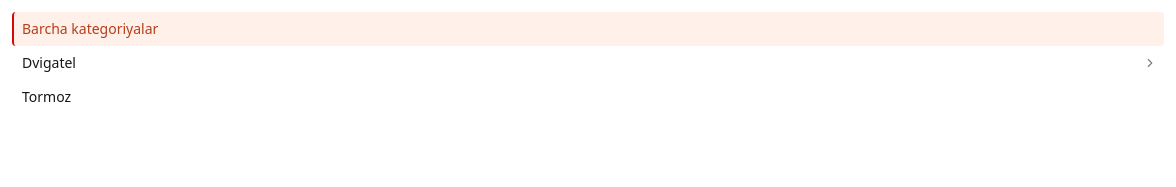
Test case: CategoryTreeFilter › opens a branch without selecting it
Step 1. Click the button named "Dvigatel ichidagi turkumlarni ochish yoki yopish" → point(1150, 63), box [1136,49,1164,77]
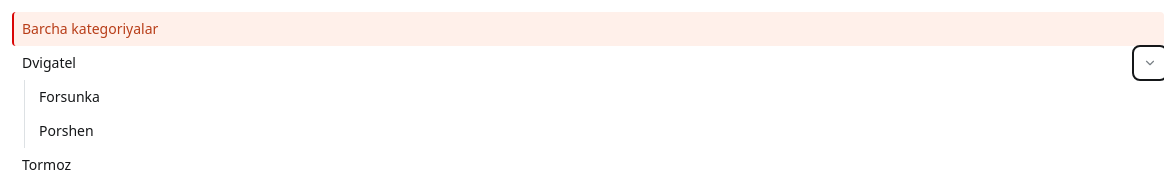
Now the button "Forsunka" is shown, box [29,80,1164,114]
